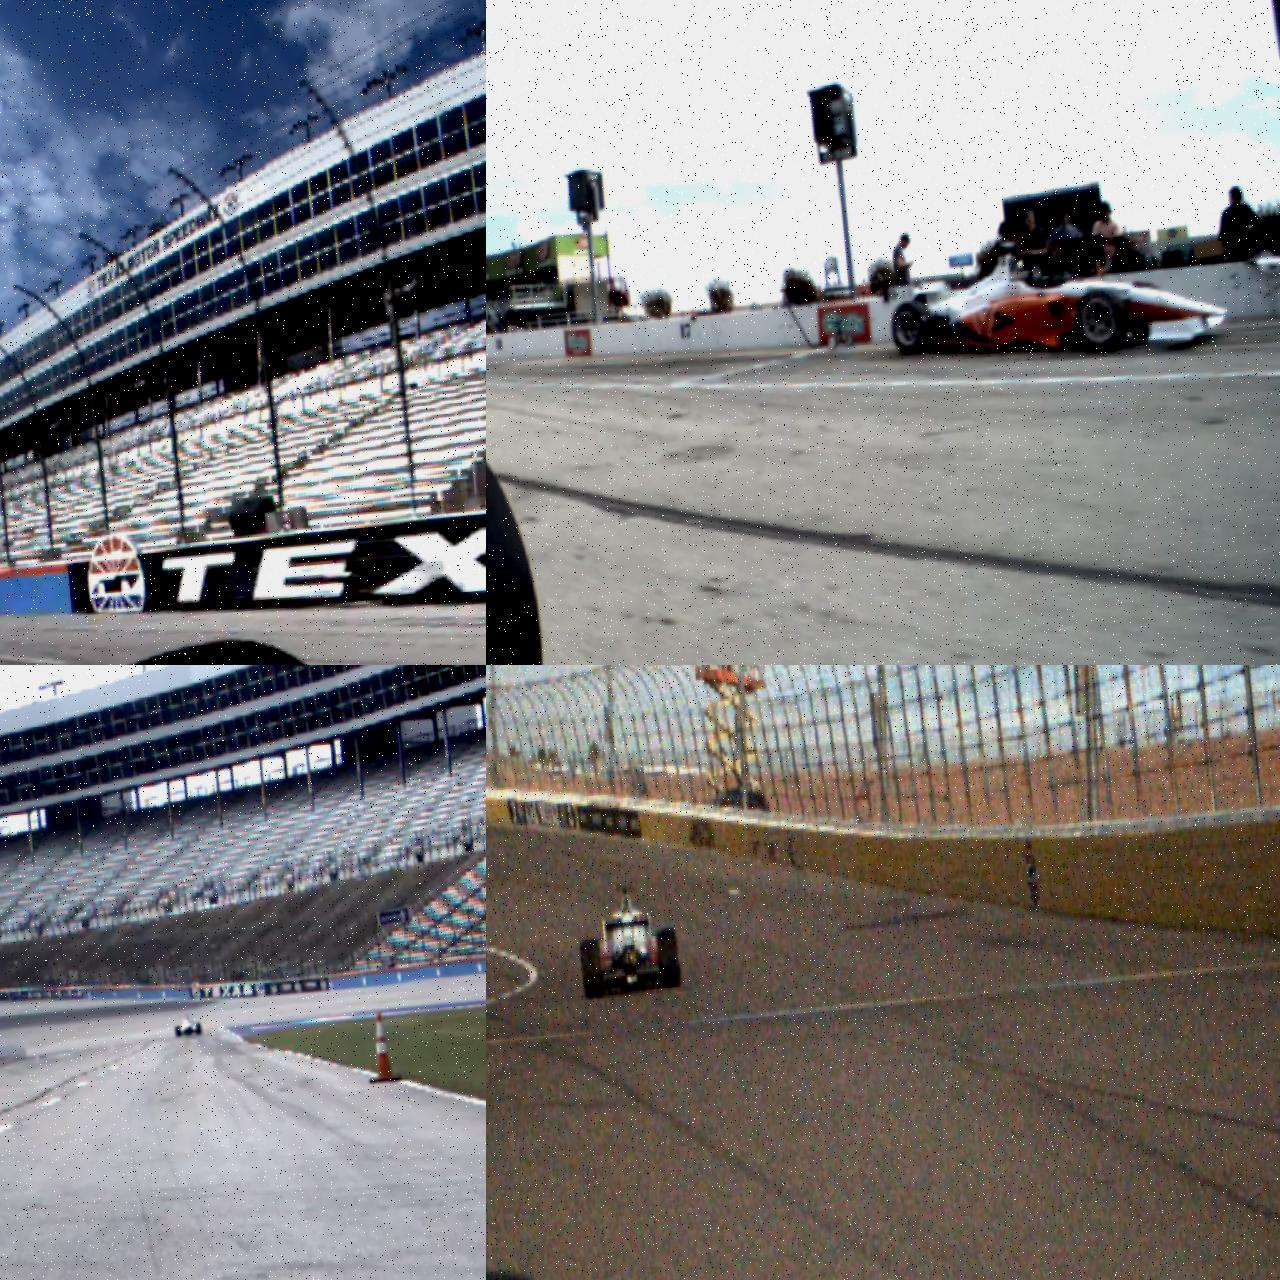AV: (883, 224, 1231, 374), (574, 880, 682, 1000), (173, 1013, 202, 1039)
Wheel: (1075, 286, 1129, 358), (888, 300, 934, 358), (579, 939, 606, 1000), (656, 926, 682, 988), (175, 1024, 182, 1039), (196, 1022, 203, 1036)
